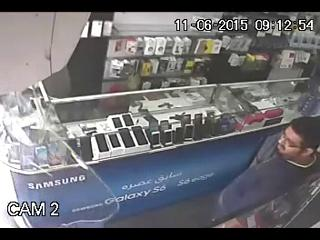Normal: (212, 116, 320, 227)
